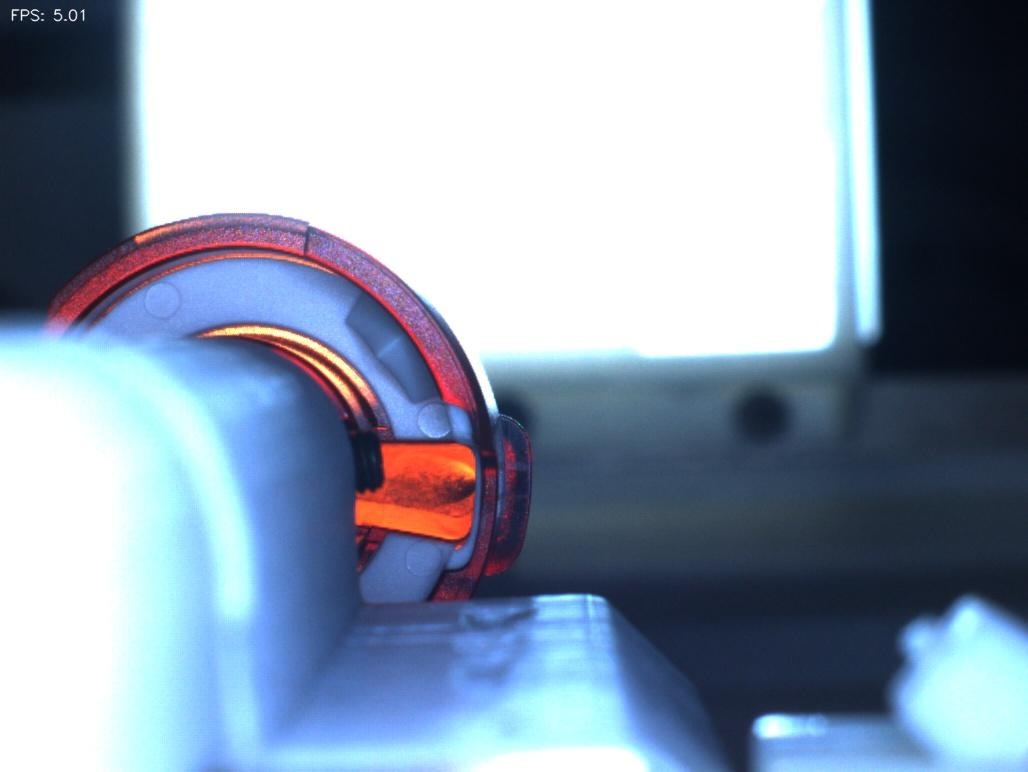Retassure: (384, 444, 481, 525)
